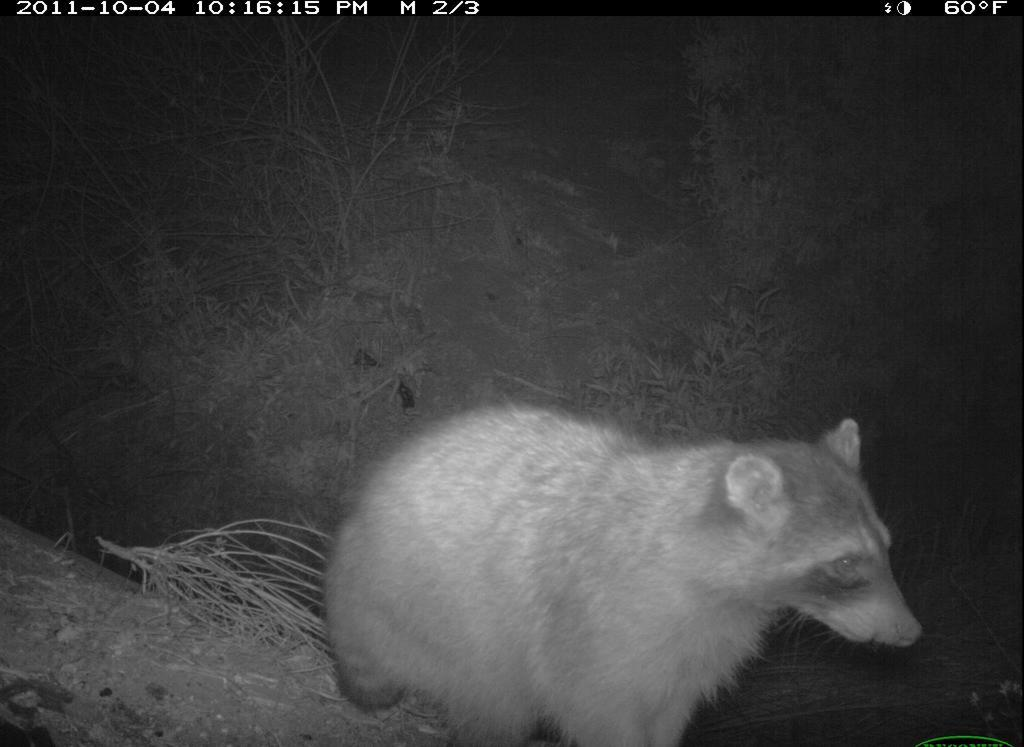raccoon: (322, 405, 925, 747)
